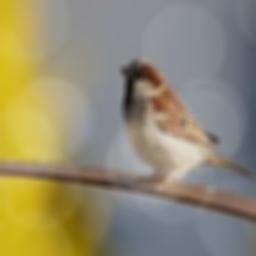Sparrow: (120, 58, 252, 191)
